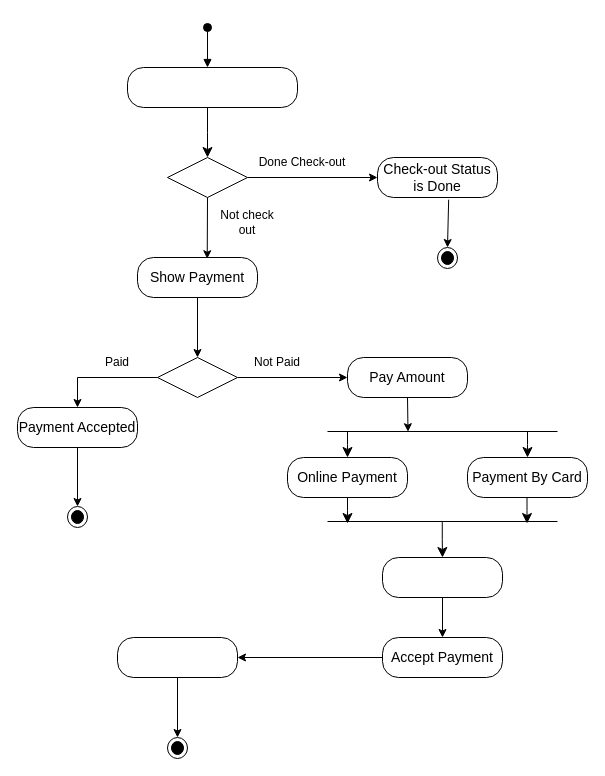
The diagram is 605 pixels wide and 776 high, and some of its shapes have lost their labels. The centre of each missing label's shape, as x and y in pixels:
"Accpet Check-out" belongs at (177,657).
"Check Check-out Status" belongs at (212,87).
"Confirm Payment" belongs at (442,577).
